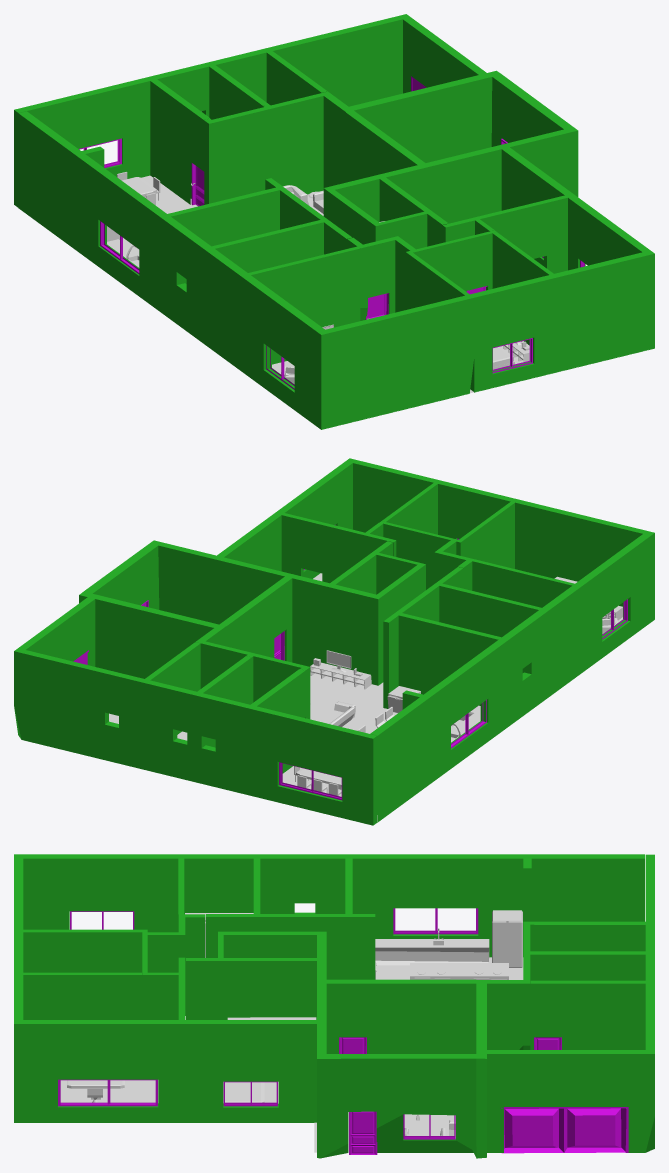
The model's file is Iot_Casa.glb.
The picture shows the model from 3 angles, top to bottom: view 1: azimuth 30°, elevation 25°; view 2: azimuth 150°, elevation 25°; view 3: azimuth 270°, elevation 25°; orthographic projection. The views are drawn at different scales.
Visible parts, largest first — view 1: Cube, Plano.012; view 2: Cube, Plano.013, Cubo.022, Cubo.019; view 3: Cube, Cube.037, Cubo.060, Cubo.059, Cubo.035, Plano.013, Plano.015, Cube.032, Cube.002, Cubo.002, Plano.014, Cube.009 (+2 smaller).
Part boxes in pixels (x1=…): Cube: x1=14, y1=14, x2=654, y2=429; Plano.012: x1=123, y1=175, x2=323, y2=253; Cube: x1=14, y1=458, x2=654, y2=825; Plano.013: x1=310, y1=672, x2=458, y2=733; Cubo.022: x1=310, y1=650, x2=371, y2=689; Cubo.019: x1=319, y1=701, x2=355, y2=726; Cube: x1=14, y1=854, x2=654, y2=1158; Cube.037: x1=501, y1=1107, x2=628, y2=1153; Cubo.060: x1=375, y1=928, x2=489, y2=965; Cubo.059: x1=492, y1=910, x2=522, y2=967; Cubo.035: x1=410, y1=963, x2=508, y2=979; Plano.013: x1=314, y1=965, x2=455, y2=1152; Plano.015: x1=60, y1=1080, x2=141, y2=1102; Cube.032: x1=350, y1=1111, x2=375, y2=1154; Cube.002: x1=58, y1=1079, x2=157, y2=1106; Cubo.002: x1=223, y1=1082, x2=264, y2=1103; Plano.014: x1=141, y1=1016, x2=278, y2=1103; Cube.009: x1=393, y1=908, x2=478, y2=934.
Bounding box in the file's own units: 46.71 × 11.03 × 61.68.
